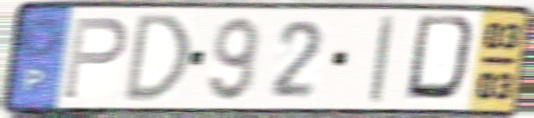2: (267, 17, 330, 101)
9: (205, 14, 264, 104)
D: (401, 13, 484, 107), (120, 11, 194, 106)
I: (366, 13, 397, 107)
P: (60, 14, 130, 102)
